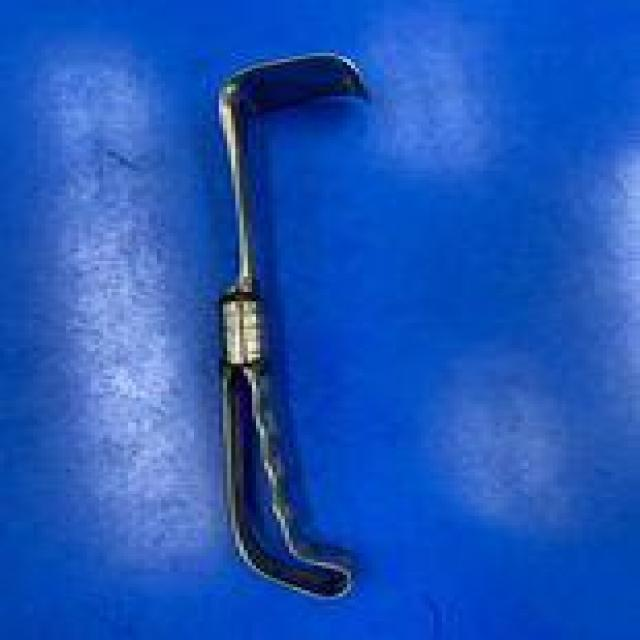Richardson: (206, 50, 380, 609)
